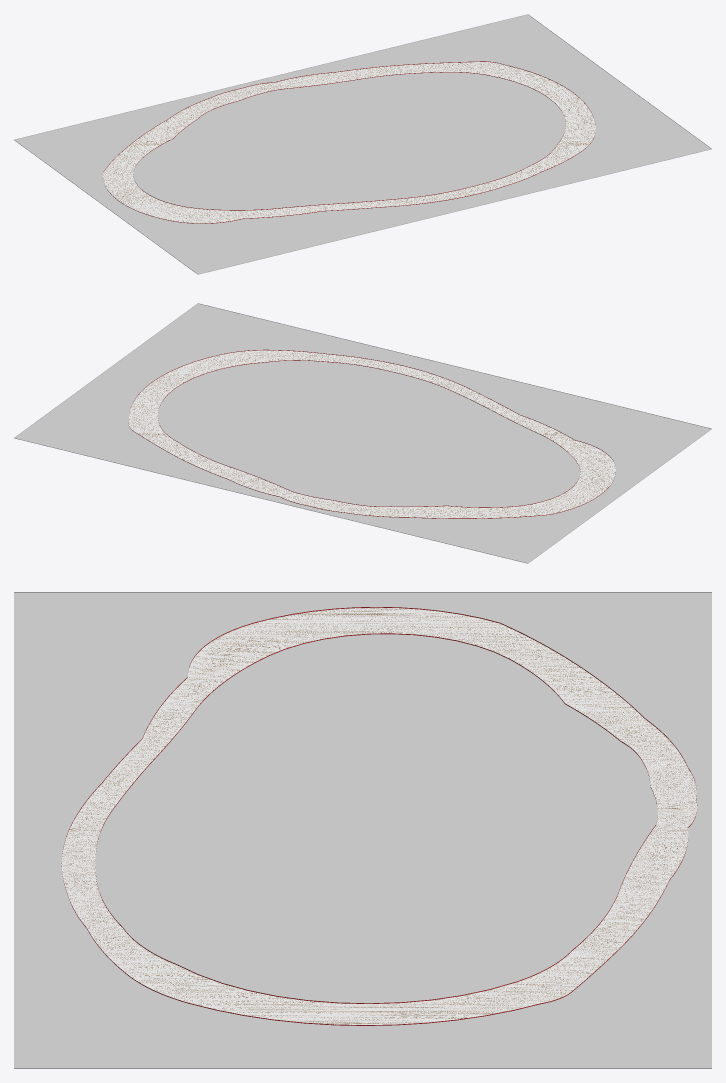
The model's file is robocross_map_10sm.dae.
The picture shows the model from 3 angles, top to bottom: view 1: azimuth 30°, elevation 25°; view 2: azimuth 150°, elevation 25°; view 3: azimuth 270°, elevation 25°; orthographic projection. The views are drawn at different scales.
Parts seen in each view (by area): view 1: SketchUp (×5); view 2: SketchUp (×5); view 3: SketchUp (×5).
Boxes of the visible parts, x1=… form: SketchUp (×5): x1=14, y1=14, x2=711, y2=274; SketchUp (×5): x1=14, y1=303, x2=711, y2=563; SketchUp (×5): x1=14, y1=592, x2=711, y2=1068.
Bounding box in the file's own units: 16455 × 10197 × 13.78.
Materials: 3 (1 with a texture image).
